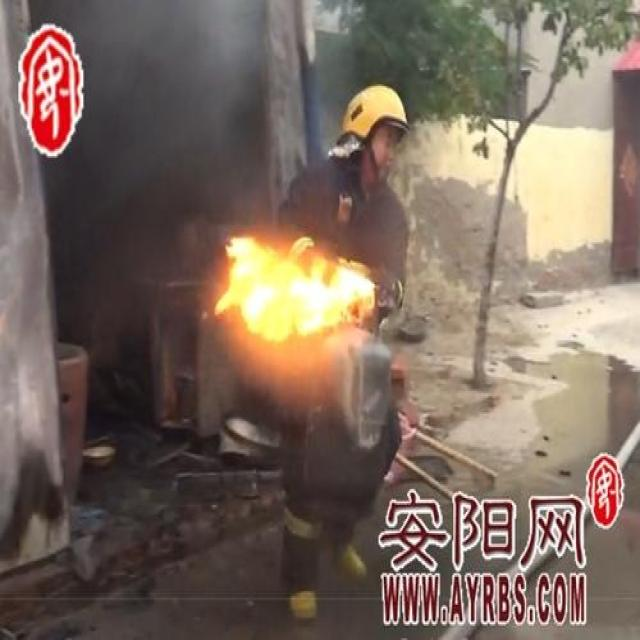fire: (224, 224, 399, 388)
smoke: (32, 7, 264, 226)
